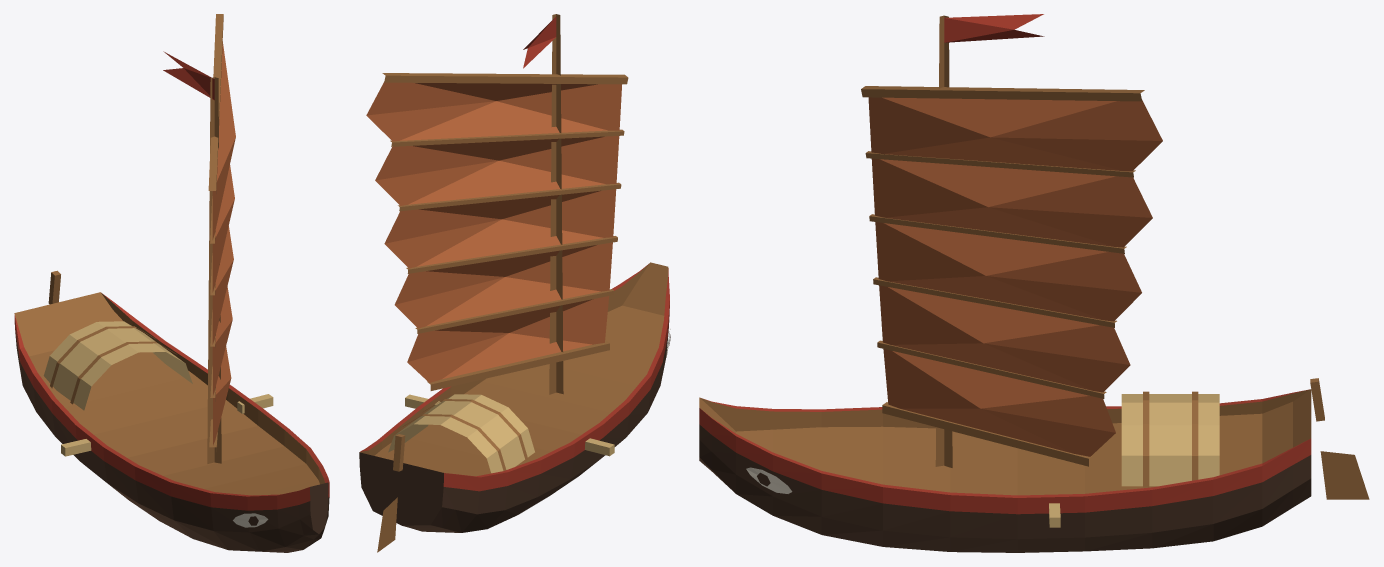
Rendered from ship_sloop.glb.
3 renders of one model, left to right at view 1: azimuth 30°, elevation 25°; view 2: azimuth 150°, elevation 25°; view 3: azimuth 270°, elevation 25°, orthographic. The views are drawn at different scales.
Parts seen in each view (by area): view 1: ship_sloop; view 2: ship_sloop; view 3: ship_sloop.
Boxes of the visible parts, left/top/right/bottom form: ship_sloop: left=14, top=14, right=329, bottom=552; ship_sloop: left=359, top=14, right=670, bottom=552; ship_sloop: left=699, top=14, right=1369, bottom=552.
Bounding box in the file's own units: 4.59 × 9.27 × 10.96.
